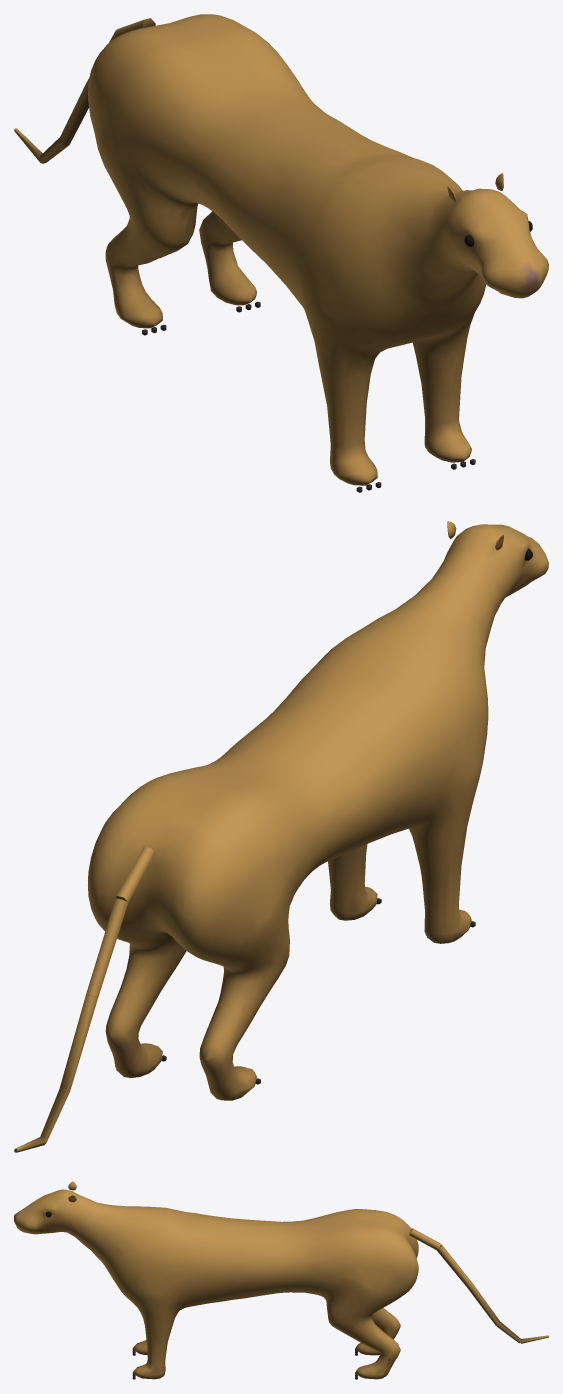
The model's file is tiger.glb.
3 views of the same model, one above another, from view 1: azimuth 30°, elevation 25°; view 2: azimuth 150°, elevation 25°; view 3: azimuth 270°, elevation 25° (orthographic). The views are drawn at different scales.
Parts seen in each view (by area): view 1: lack; view 2: lack; view 3: lack.
Boxes of the visible parts, bbox=[...] form: lack: bbox=[14, 14, 548, 492]; lack: bbox=[14, 521, 548, 1152]; lack: bbox=[14, 1181, 548, 1379].
Size of the model in its own units: 0.6428 by 1.25 by 3.42.
